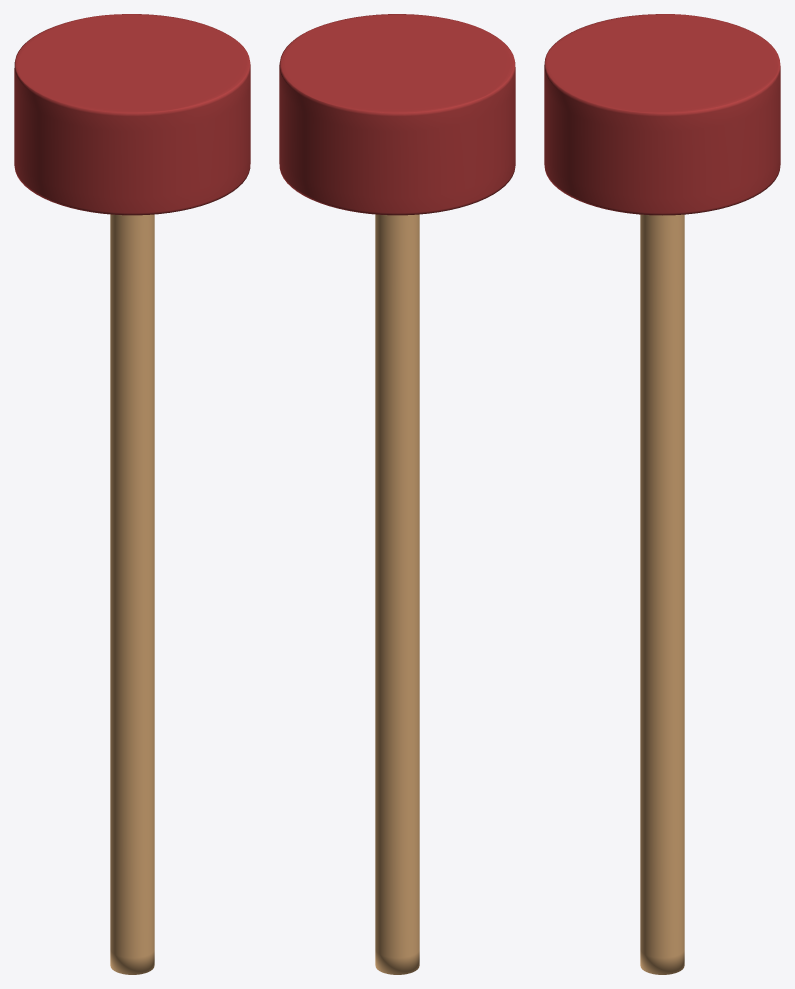
3 renders of one model, left to right at view 1: azimuth 30°, elevation 25°; view 2: azimuth 150°, elevation 25°; view 3: azimuth 270°, elevation 25°, orthographic.
Parts seen in each view (by area): view 1: pemukul; view 2: pemukul; view 3: pemukul.
Part boxes in pixels (x1,y1,x2,y2): pemukul: [14, 14, 250, 974]; pemukul: [279, 14, 515, 974]; pemukul: [544, 14, 780, 974].
Size of the model in its own units: 5.29 by 22.3 by 5.29.
